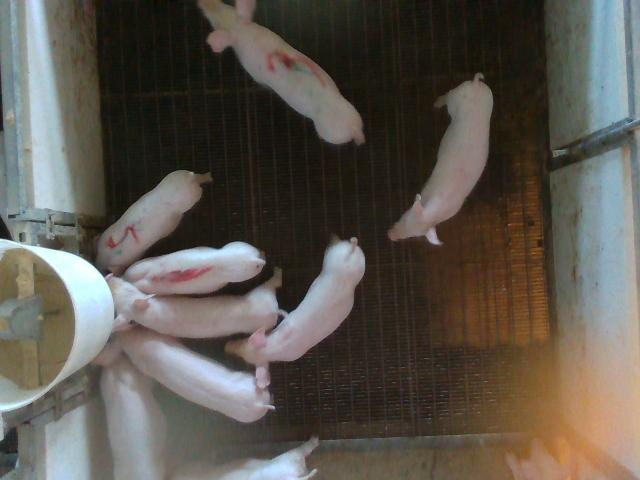pig-1: (124, 241, 264, 294)
pig-3: (198, 0, 362, 144)
pig-5: (96, 170, 211, 274)
